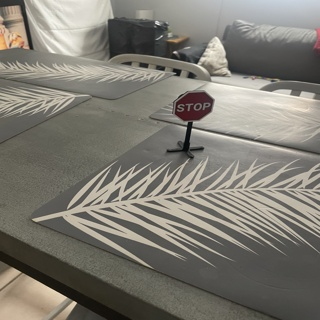sign_stop: (174, 88, 214, 121)
